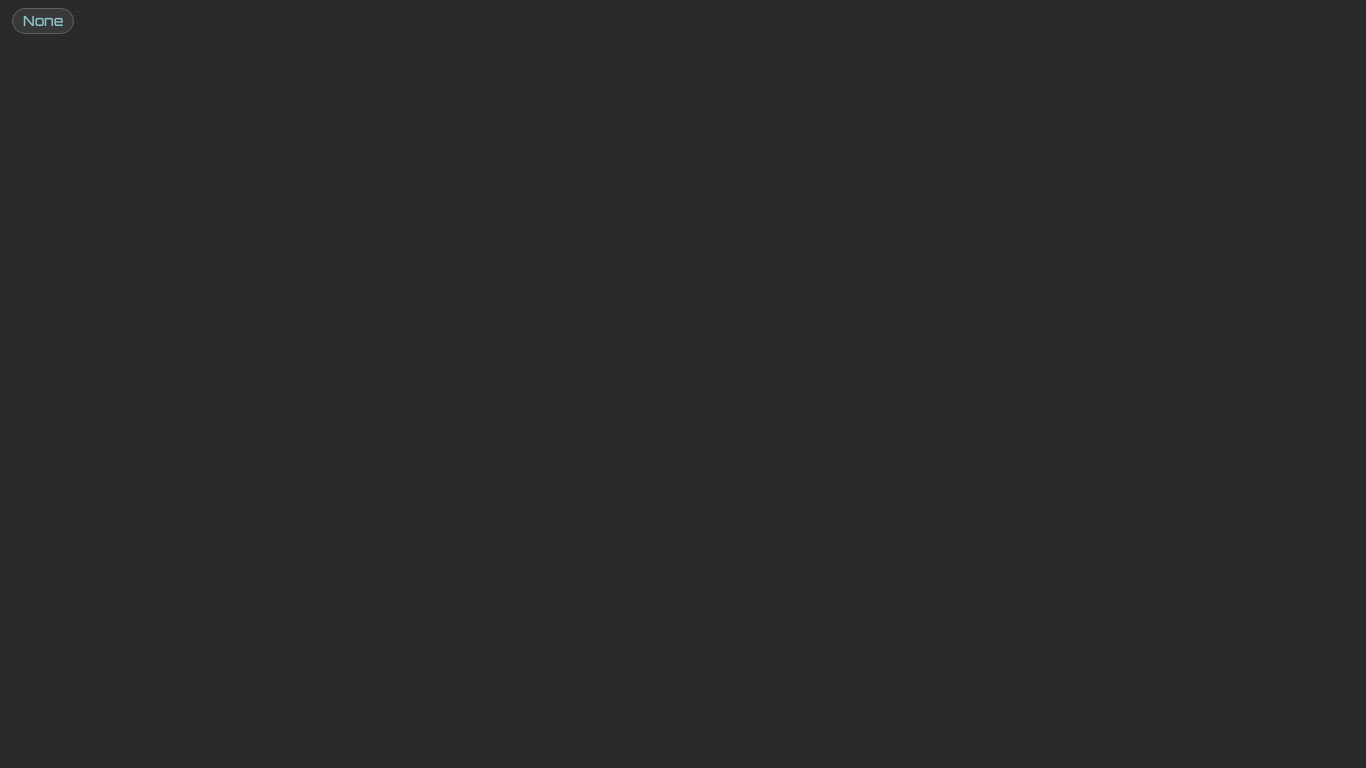
ChoreEntryRow – display › renders link in the edit dialog when set
What coordinates should you click on to do the following:
click the button titled "Edit entry"
I would click on:
 (43, 21)
Its box is [12,8,74,34].
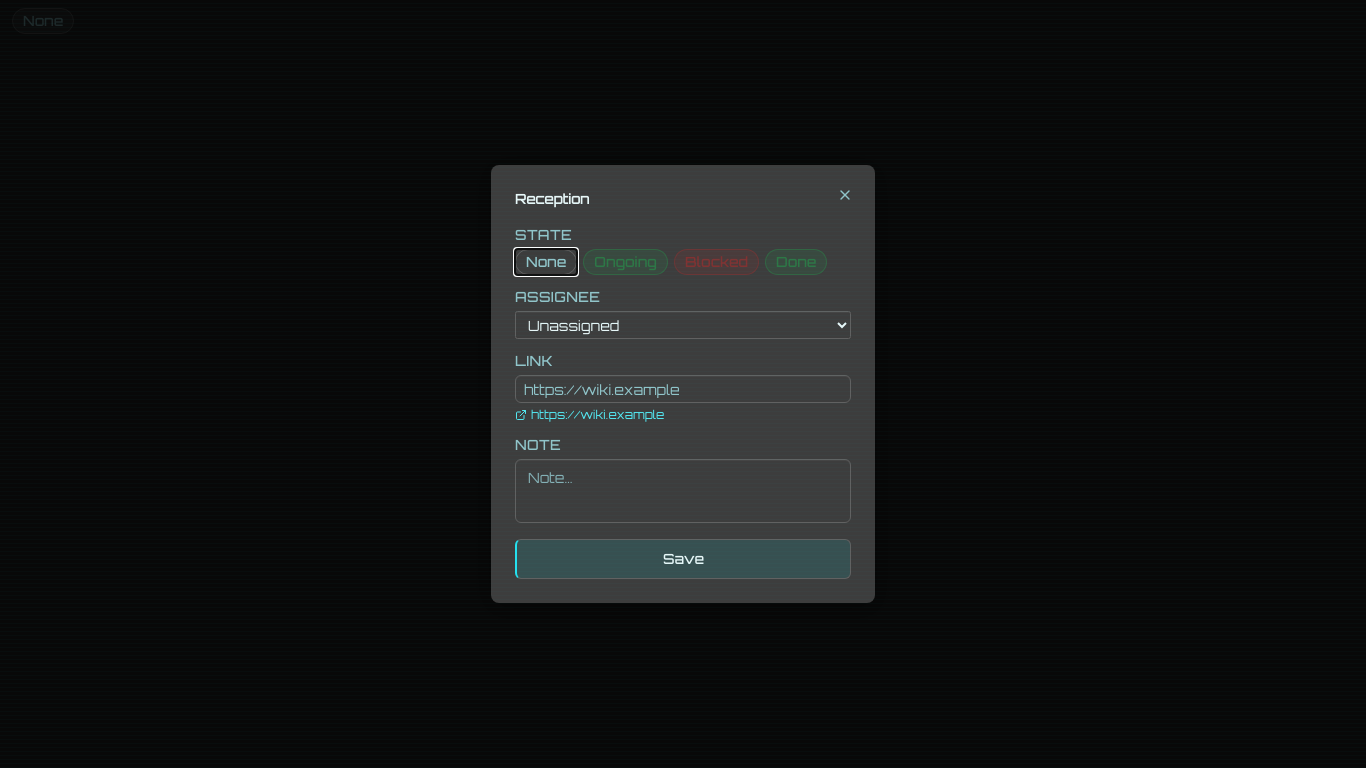
Expected: the link "https://wiki.example" is shown, [515,407,664,422]
